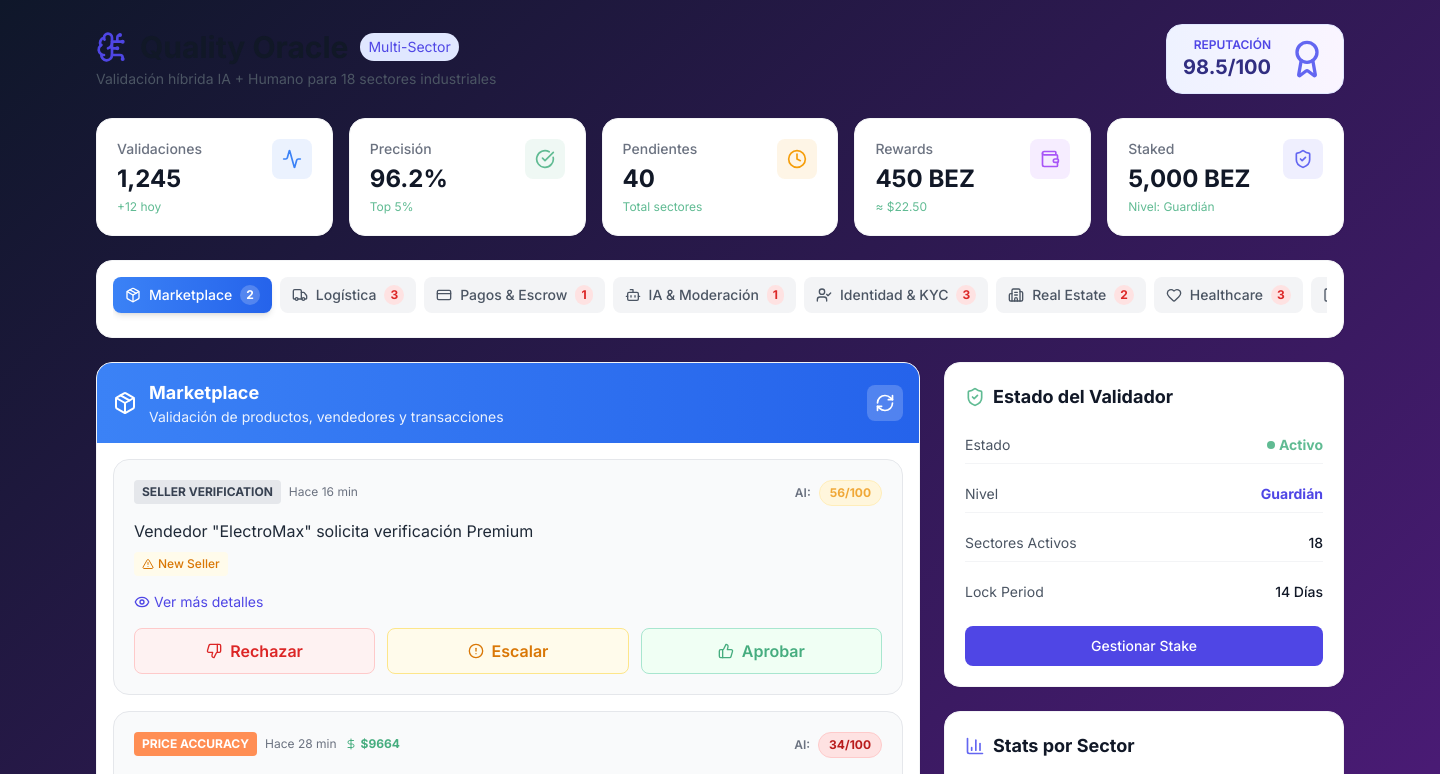
it: OraclePage › Voting Actions › should update pending rewards after voting
The image size is (1440, 774).
expect the heading "450 BEZ" is shown: met, box [875,163,975,195]
What coordinates should you click on to do the following:
click the button "Aprobar"
I would click on:
 (761, 651)
Its box is [641,628,882,674].
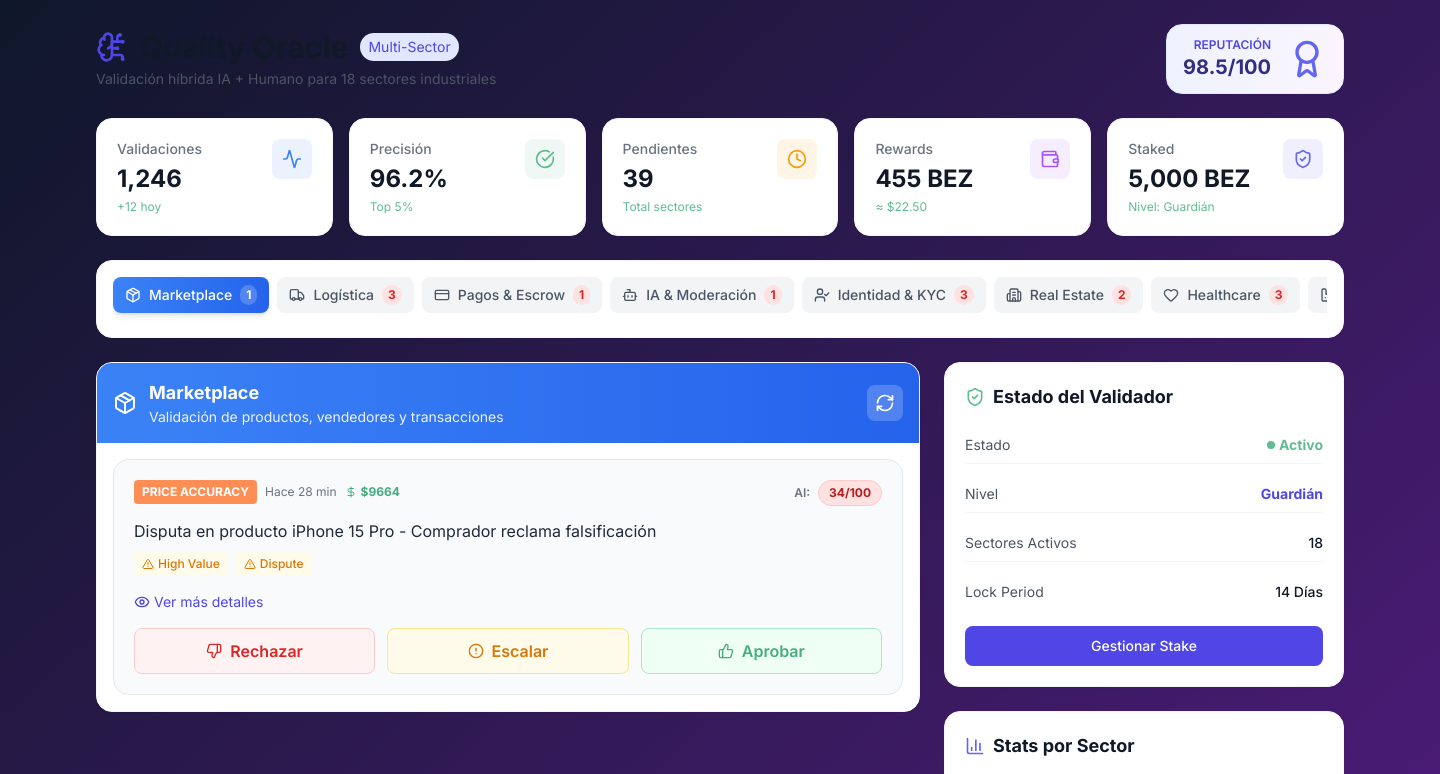
expect the heading "455 BEZ" is shown: met, box [875,163,974,195]
